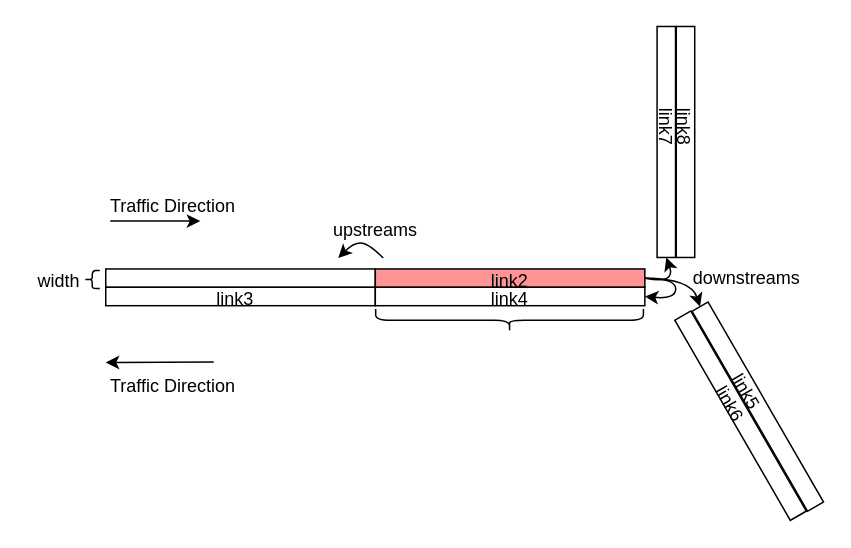
This 851x548 diagram has some shape labels left out. Here are the shapes that lost their labels. From the top down, the box of each, then its label:
(104, 267, 375, 287): link1
(374, 308, 644, 332): length
